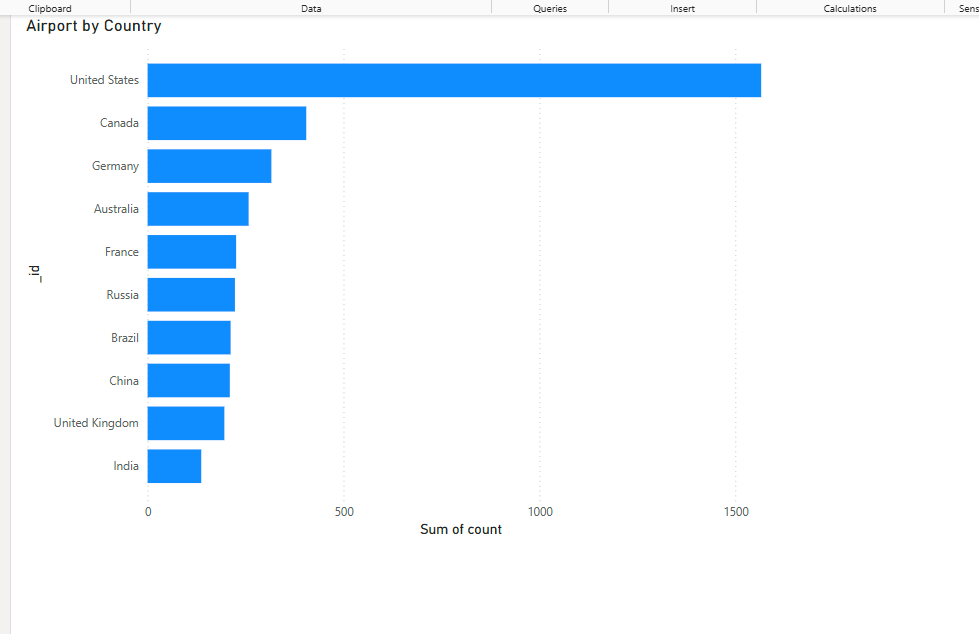

This screenshot's page, from the dashboard's own definition file:
{"tool":"powerbi","page":{"name":"Page 1","canvas":[1280,720],"ordinal":0},"visuals":[{"type":"clusteredBarChart","fields":{"Category":["top_10_airports_by_country._id"],"Y":["Sum(top_10_airports_by_country.count)"]},"box":[10.5,0,785.9,537.1],"z":0}]}

Visuals, with their boxes on the page's 1280x720 design canvas (x1, y1, x2, y2). These are canvas units, not pixel positions in the 979x634 screenshot, which may show the page scaled, cropped or inside an application window:
clusteredBarChart - top_10_airports_by_country._id x Sum(top_10_airports_by_country.count): select_region(10, 0, 796, 537)
